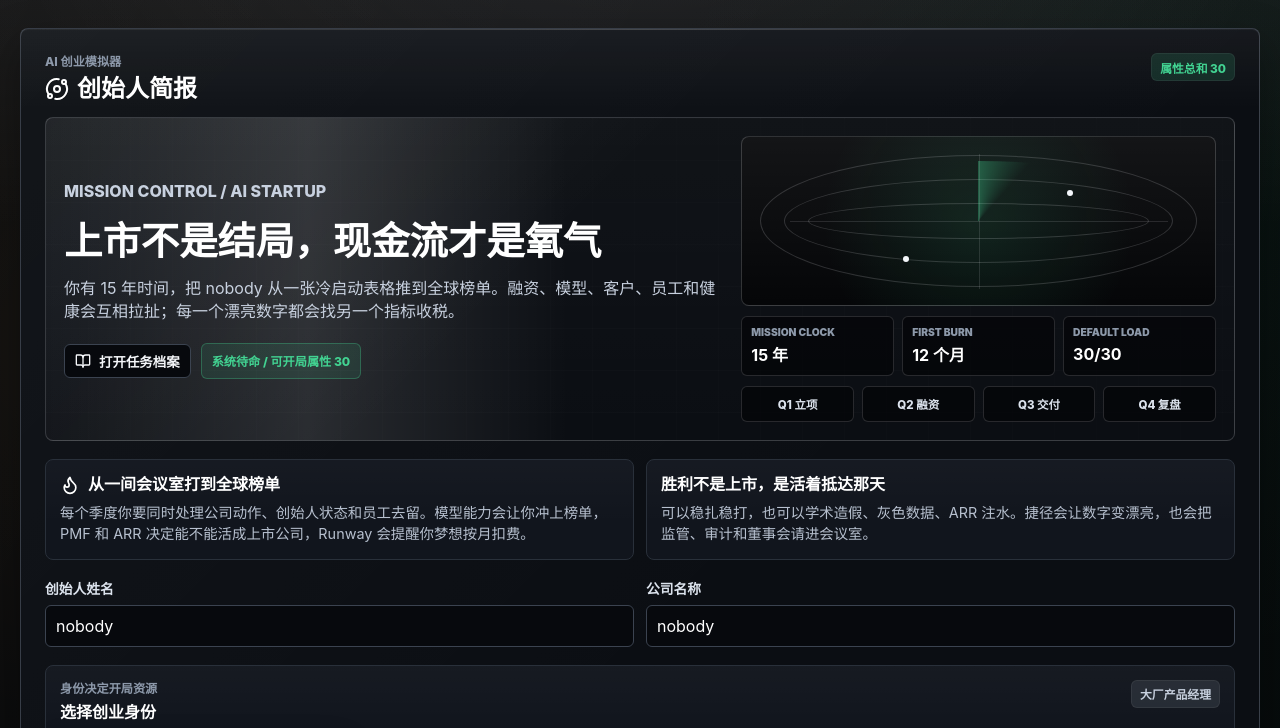
Test case: CreateFounder › reveals hidden achievement conditions inside the mission archive
Step 1. Click the button "打开任务档案" → x=127, y=361, box left=64, top=344, right=191, bottom=378
(page scrolled)
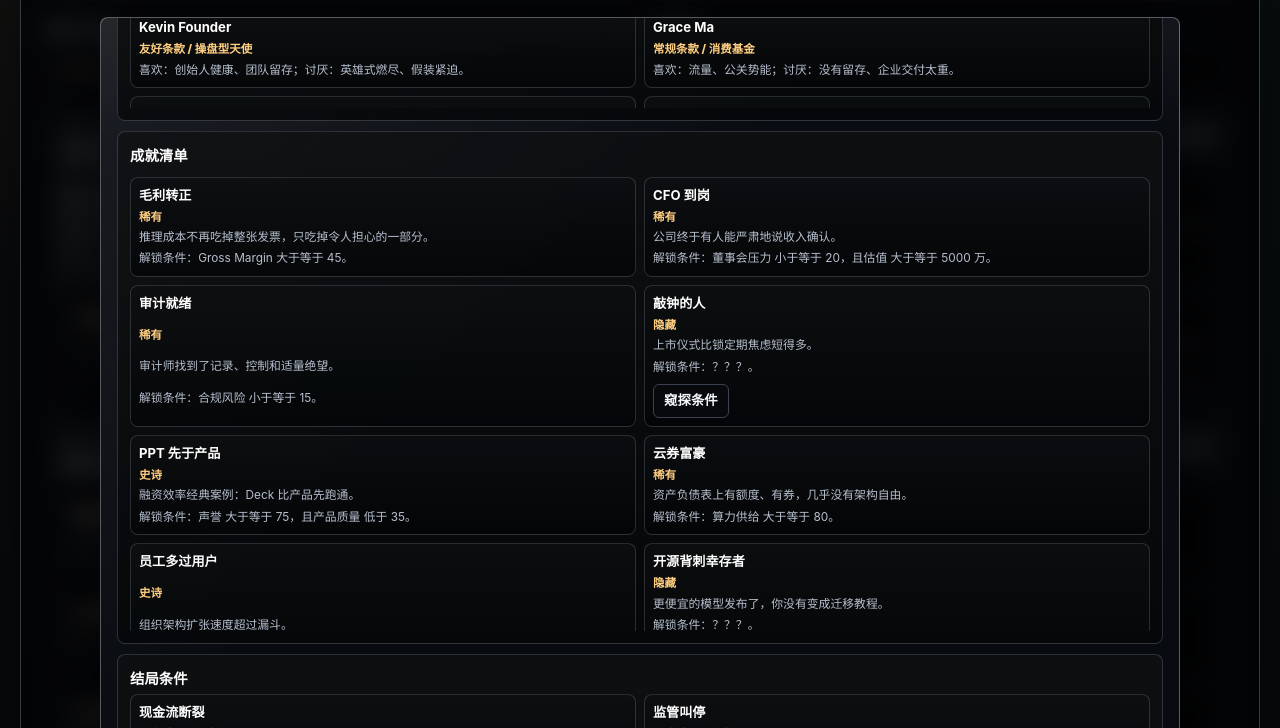
expect the text "解锁条件：？？？。" below "上市仪式比锁定期焦虑短得多。" is shown: met, box left=653, top=360, right=760, bottom=374
Step 2. Click the button "窥探条件" → x=691, y=401, box left=653, top=384, right=729, bottom=418
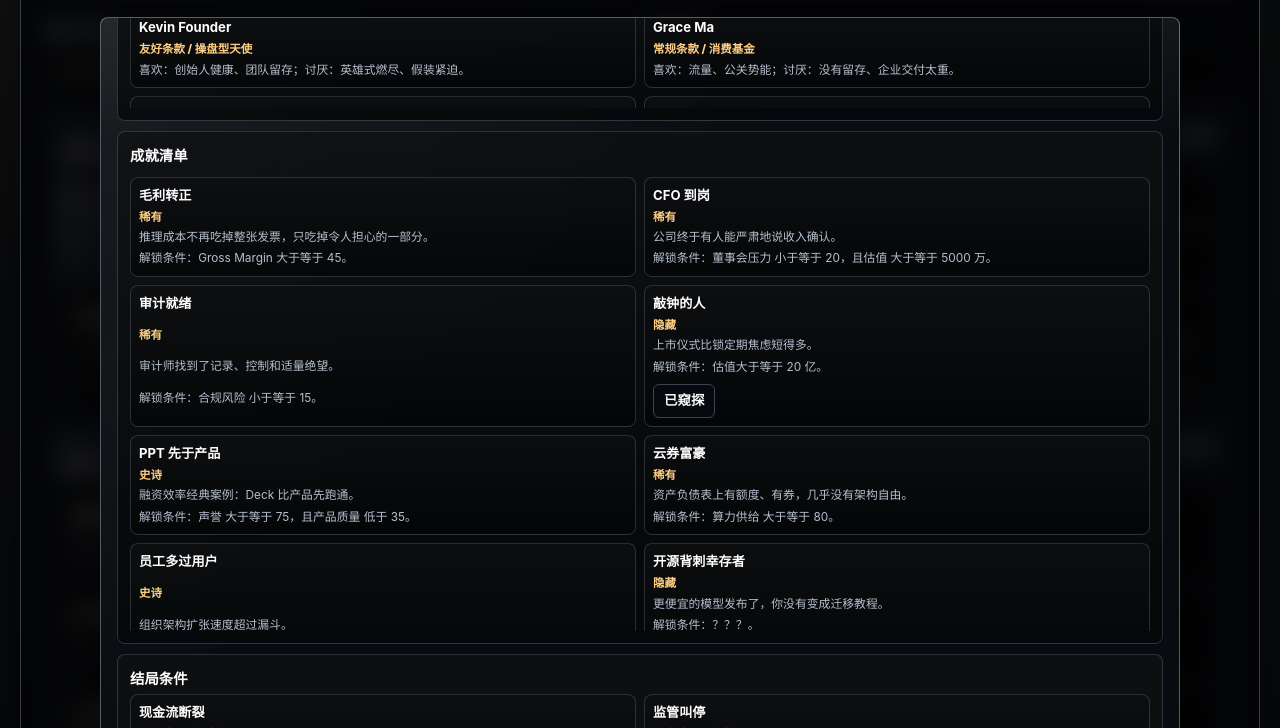
expect the text "解锁条件：估值大于等于 20 亿。" is shown: met, box left=653, top=360, right=828, bottom=374
